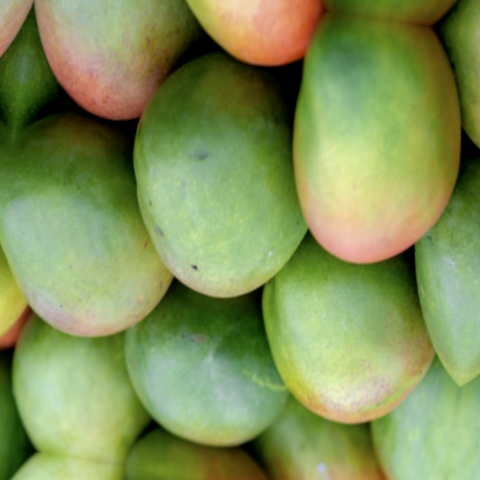mango: (100, 45, 349, 318), (254, 10, 480, 283), (0, 83, 201, 369), (97, 274, 313, 480)
